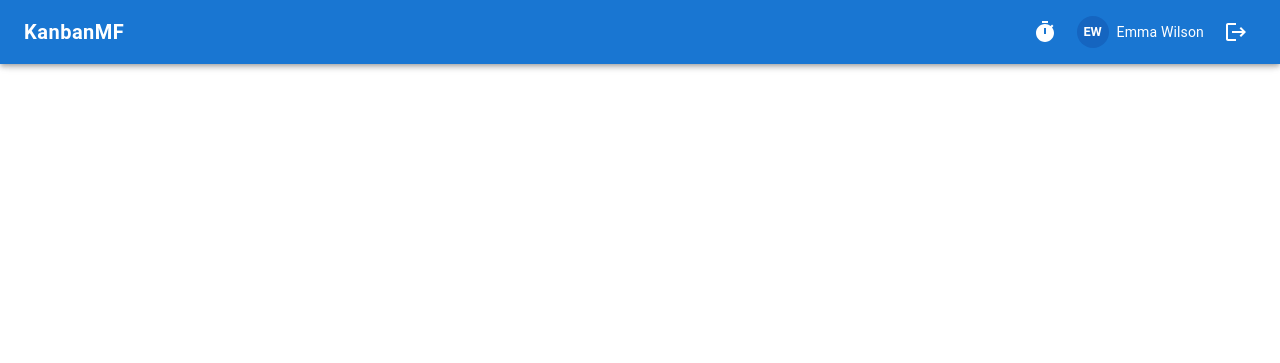
Scenario: MainAppBar › the profile › shows the initials when the avatar can't be loaded
Expected: the text "Emma Wilson" is shown, [1117,22,1204,42]
Expected: the text "EW" is shown, [1077,16,1109,48]
Step 1. Click the button with aria-label "User profile" → (1140,32), box [1073,16,1208,48]
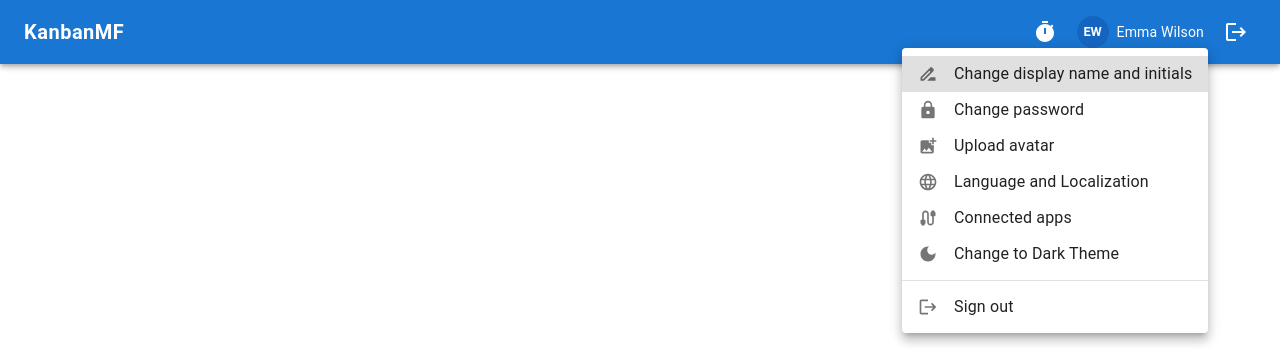
Result: the menu item "Upload avatar" is shown at [918,136,1054,156]
